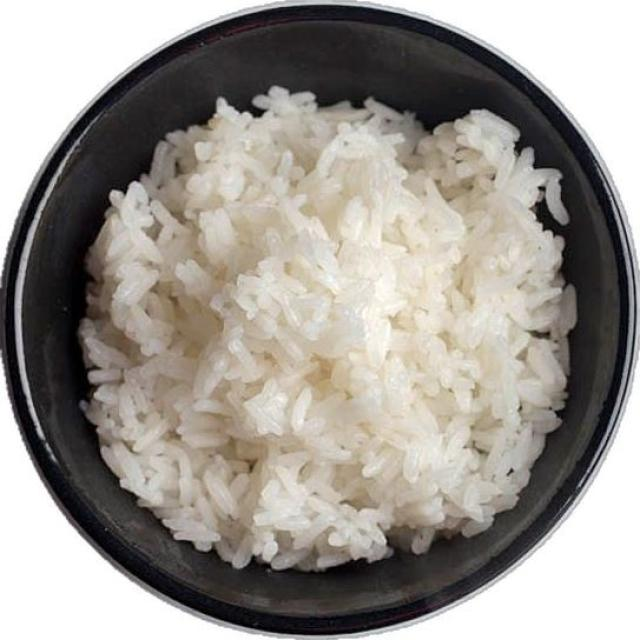Chicken -Chicken Inasal-: (107, 82, 553, 572)
